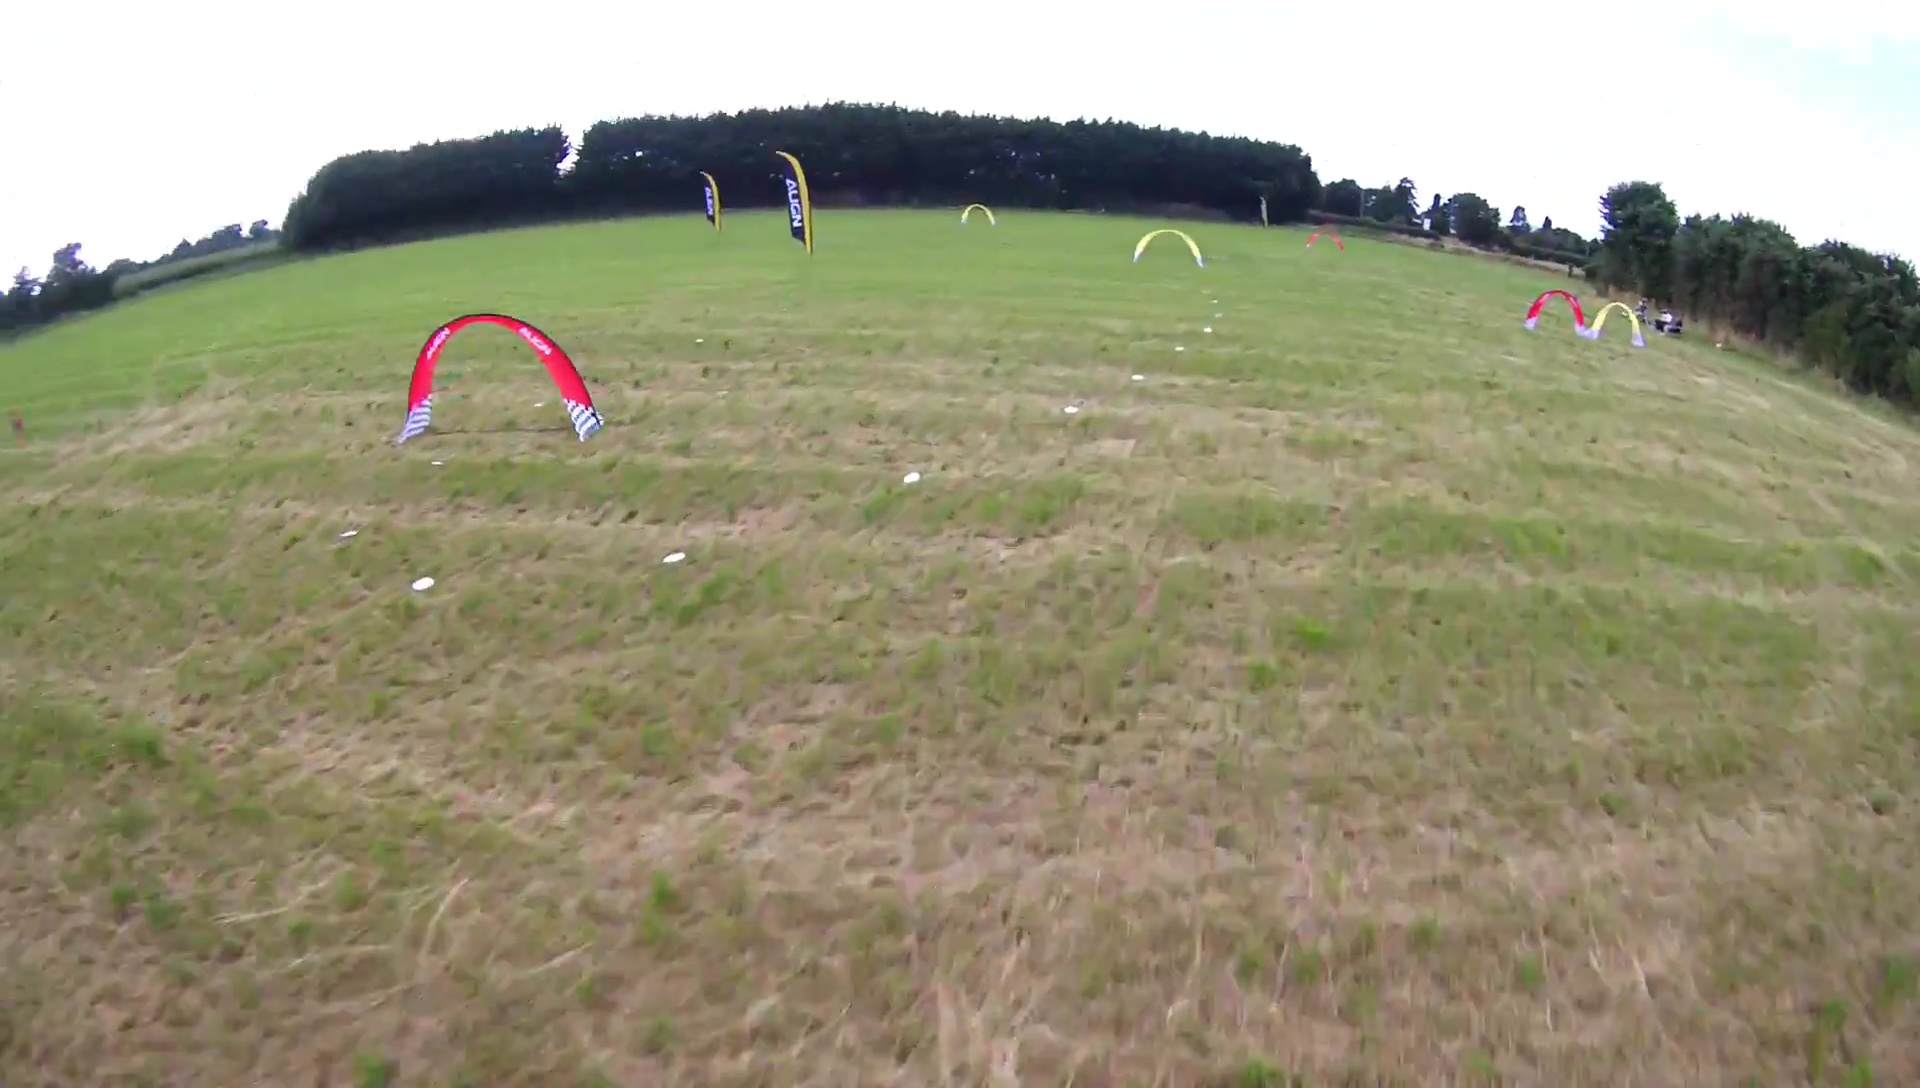gate: (396, 311, 607, 442), (1519, 289, 1592, 338), (1127, 226, 1207, 268), (1588, 299, 1644, 349), (957, 200, 1000, 226)
